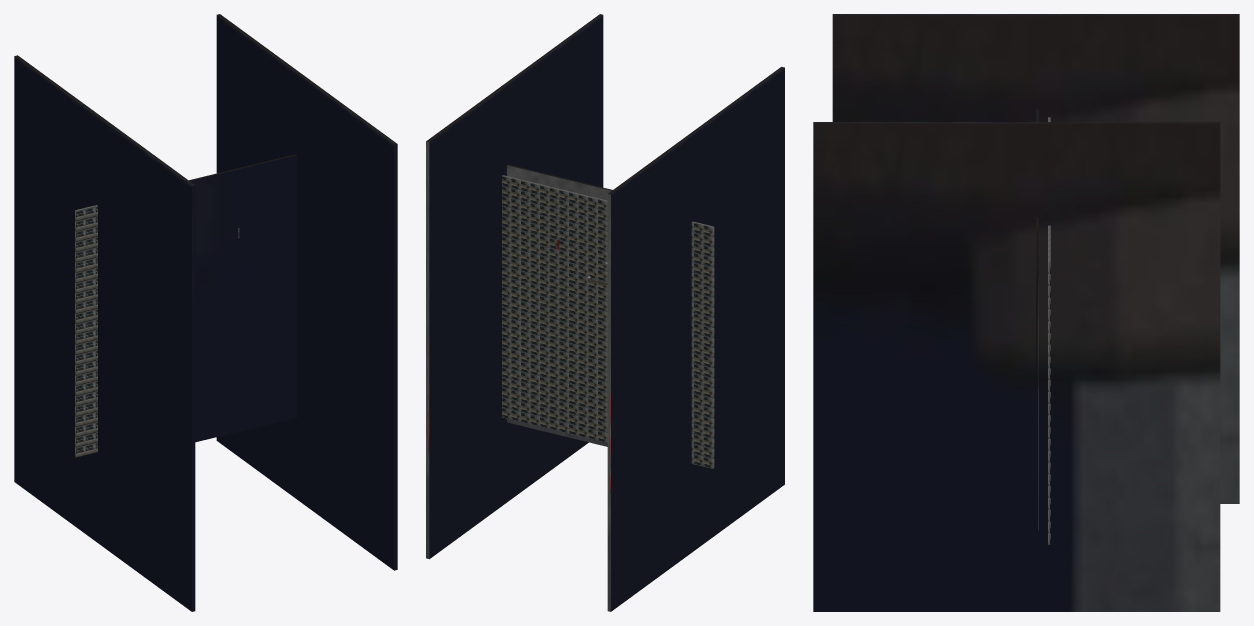
The model's file is juggernaut5.glb.
The picture shows the model from 3 angles, left to right: view 1: azimuth 30°, elevation 25°; view 2: azimuth 150°, elevation 25°; view 3: azimuth 270°, elevation 25°; orthographic projection. The views are drawn at different scales.
Parts seen in each view (by area): view 1: Cube.6446, Cube.6447, Cube.6445; view 2: Cube.6446, Cube.6447, Cube.6445; view 3: Cube.6447, Cube.6446, Cube.6445.
Boxes of the visible parts, bbox=[...] form: Cube.6446: bbox=[14, 55, 195, 611]; Cube.6447: bbox=[216, 14, 397, 570]; Cube.6445: bbox=[189, 154, 296, 442]; Cube.6446: bbox=[607, 66, 784, 611]; Cube.6447: bbox=[426, 14, 603, 559]; Cube.6445: bbox=[507, 164, 612, 446]; Cube.6447: bbox=[813, 122, 1220, 611]; Cube.6446: bbox=[832, 14, 1239, 503]; Cube.6445: bbox=[1036, 109, 1038, 530].
Size of the model in its own units: 435 by 622 by 492.
Materials: 45 (45 with a texture image).
